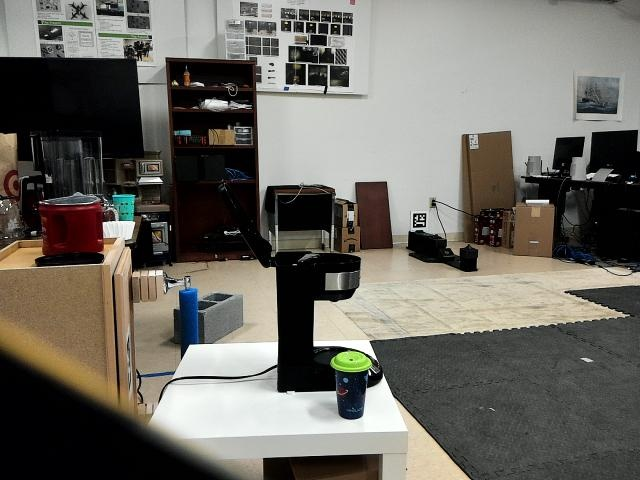coffee_cup: (109, 192, 137, 225)
noodle_handle: (174, 277, 204, 339)
useless_cup: (329, 347, 375, 420)
